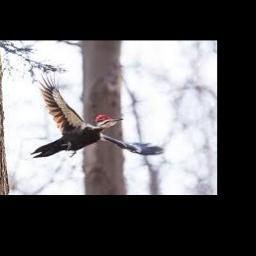Woodpecker: (31, 72, 164, 158)
